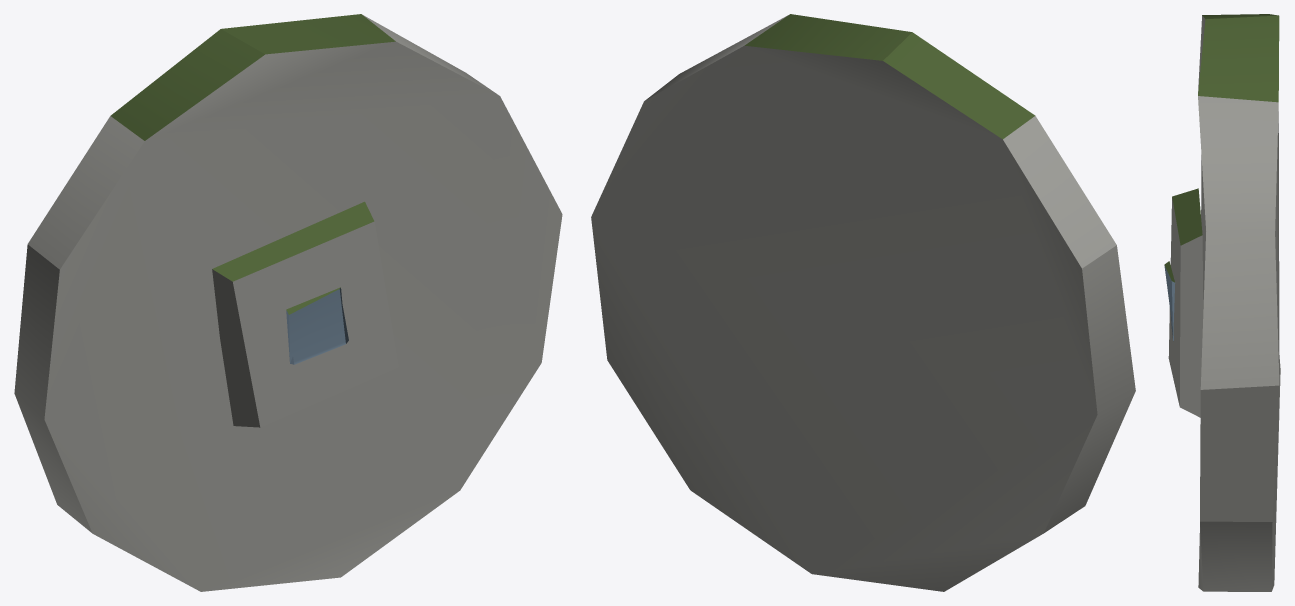
File: SealStone.fbx
3 renders of one model, left to right at view 1: azimuth 30°, elevation 25°; view 2: azimuth 150°, elevation 25°; view 3: azimuth 270°, elevation 25°, orthographic.
Visible parts, largest first — view 1: SealStone; view 2: SealStone; view 3: SealStone.
Boxes of the visible parts, left/top/right/bottom form: SealStone: left=14, top=14, right=562, bottom=591; SealStone: left=591, top=14, right=1135, bottom=591; SealStone: left=1164, top=14, right=1280, bottom=591.
Size of the model in its own units: 1.89 by 1.88 by 0.3714.
